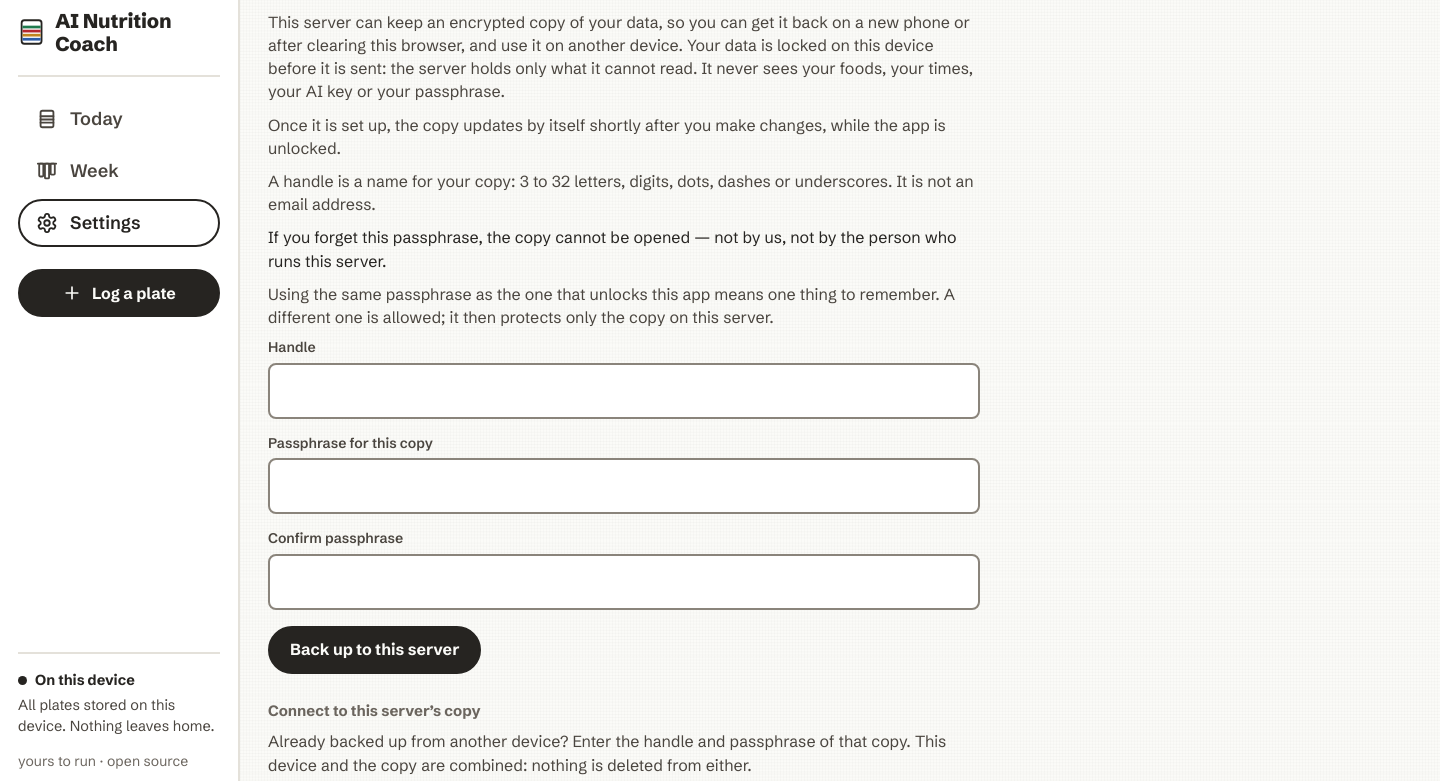
Scenario: Case C: back up to this server › "handle taken" is named; the fields are emptied and no connection is made
(page scrolled)
In the field labelled "Handle": (624, 391) [270,365,978,417], type "alice"
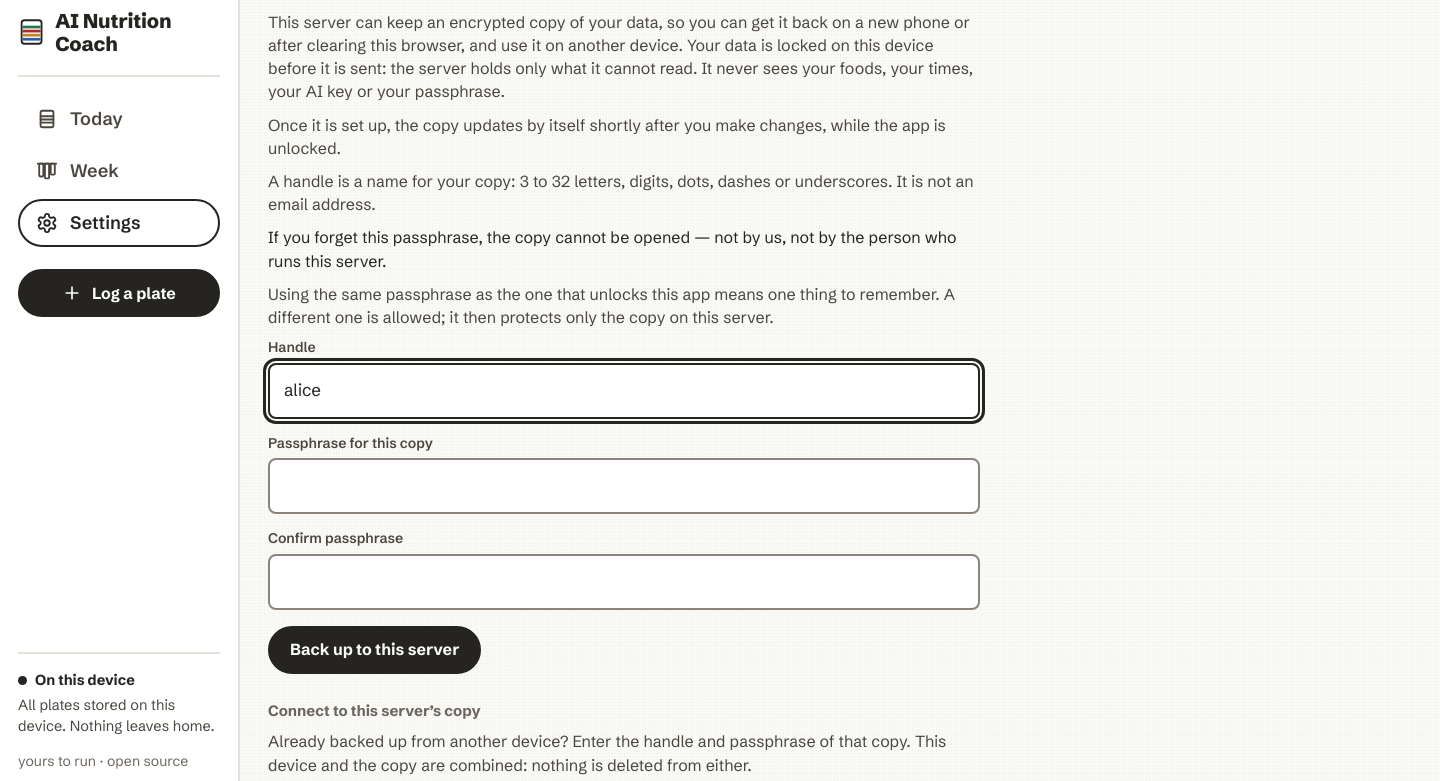
In the password field labelled "Passphrase for this copy": (624, 486) [270,460,978,512], type "another vault passphrase"
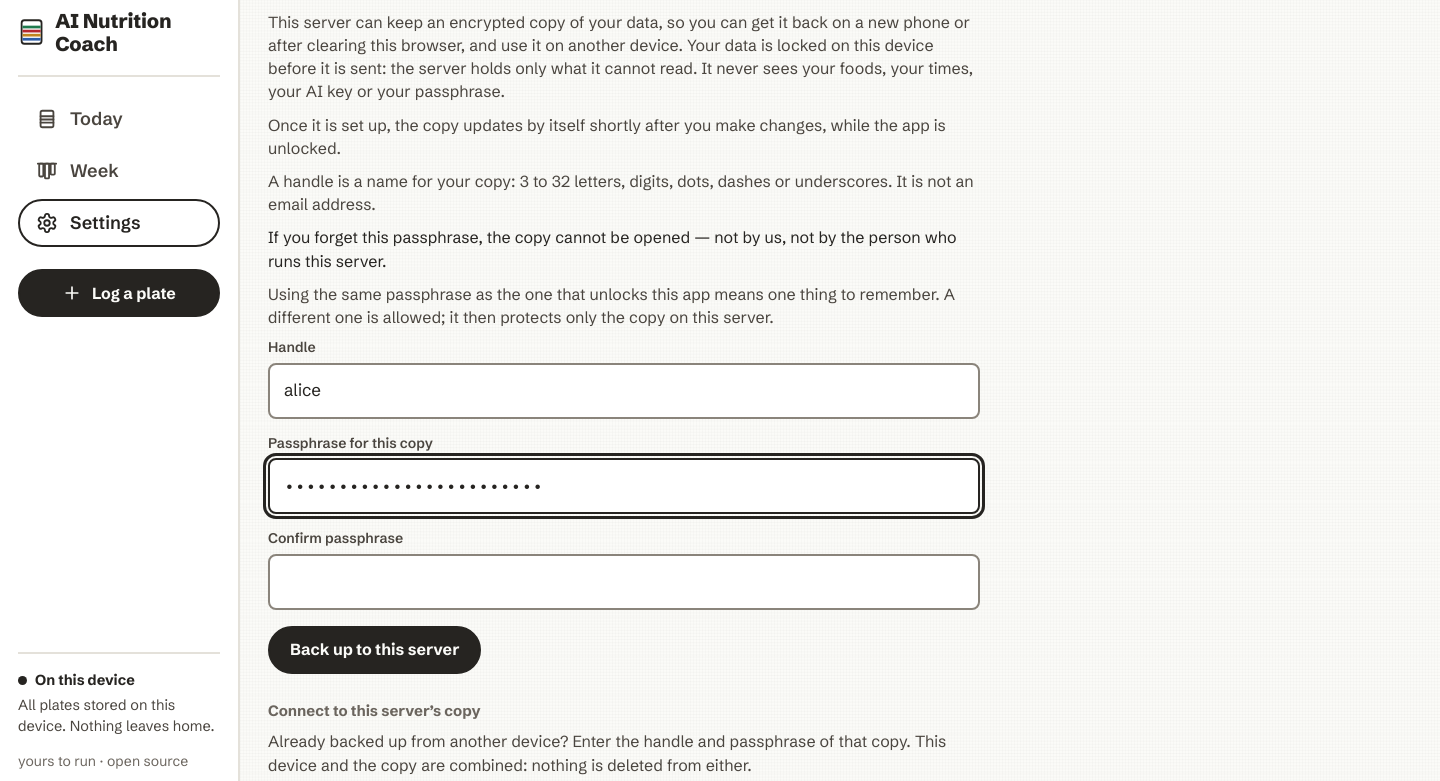
In the password field labelled "Confirm passphrase": (624, 582) [270,556,978,608], type "another vault passphrase"
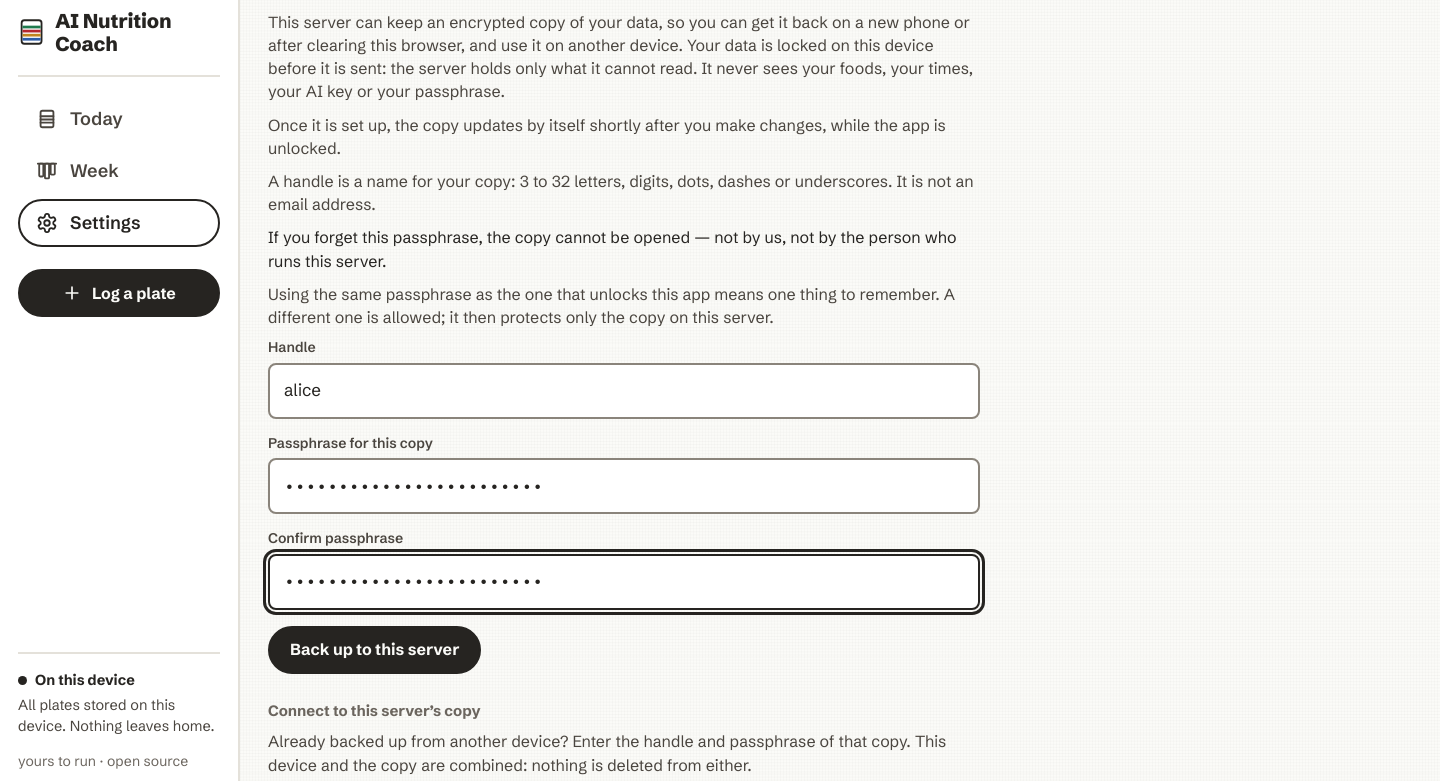
Click the button "Back up to this server": (375, 650) [268,626,482,674]
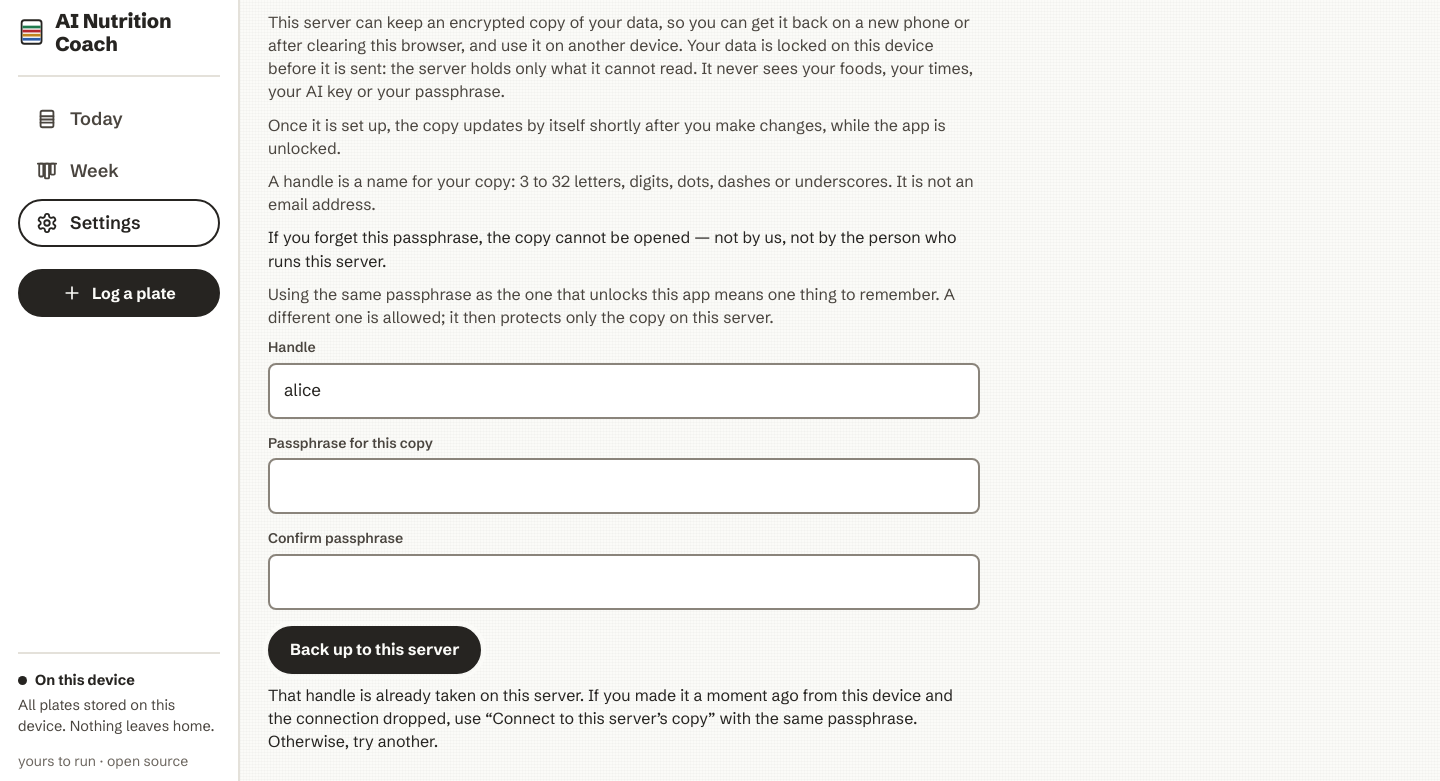
Expected: the text "That handle is already taken on this server." is shown, [268,685,953,751]
